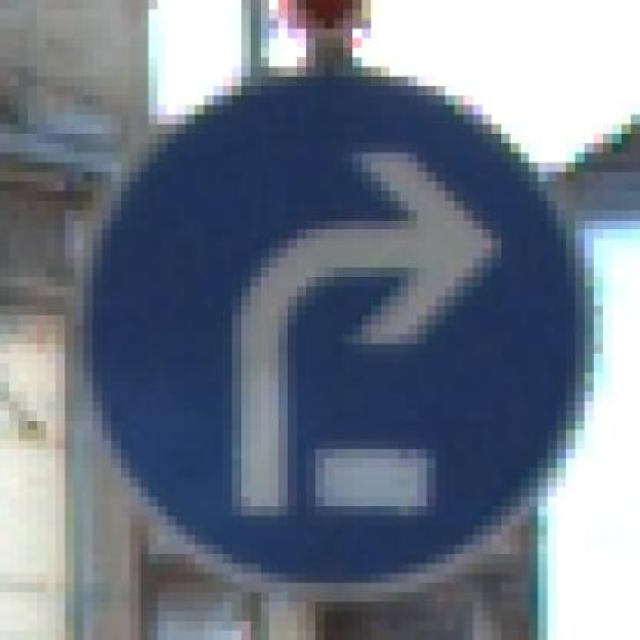Turn right ahead: (56, 67, 593, 602)
